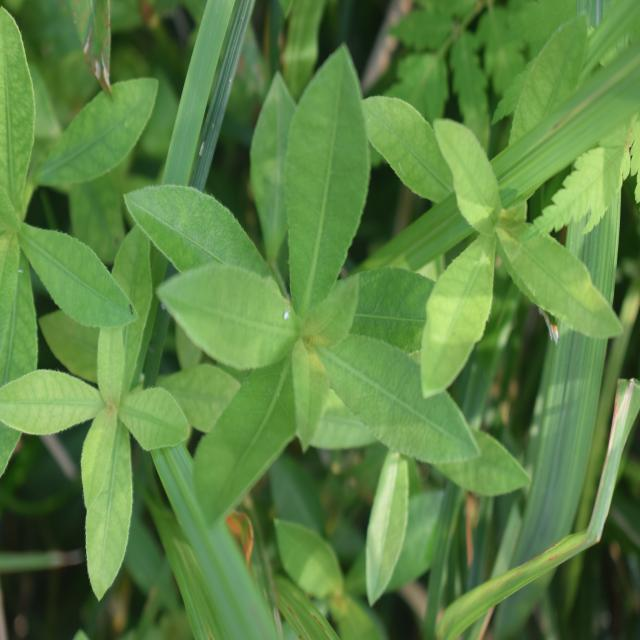Alligatorweed: (155, 42, 505, 516), (0, 194, 239, 611)
